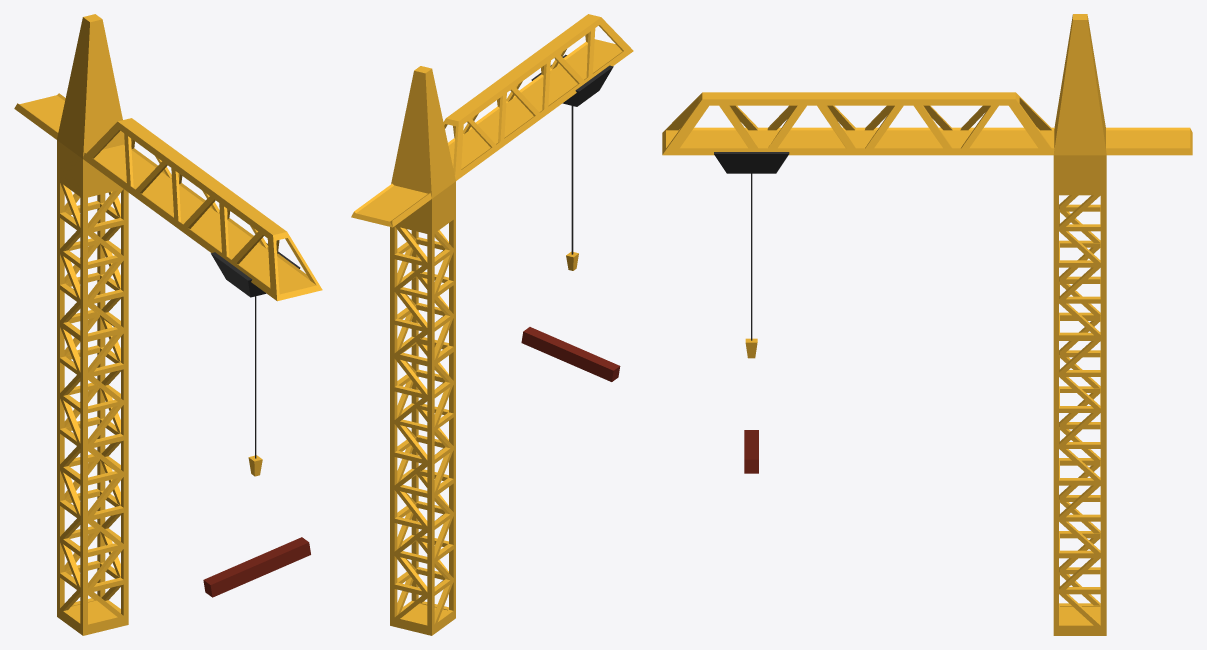
Rendered from Grue.fbx.
3 views of the same model, side by side, from view 1: azimuth 30°, elevation 25°; view 2: azimuth 150°, elevation 25°; view 3: azimuth 270°, elevation 25° (orthographic). The views are drawn at different scales.
Parts seen in each view (by area): view 1: BaseGrue, HautGrue, Cube; view 2: BaseGrue, HautGrue, Cube; view 3: BaseGrue, HautGrue, Cube.
Part boxes in pixels (x1=…): BaseGrue: x1=57, y1=14, x2=128, y2=635; HautGrue: x1=14, y1=93, x2=322, y2=301; Cube: x1=203, y1=243, x2=310, y2=597; BaseGrue: x1=390, y1=66, x2=455, y2=635; HautGrue: x1=351, y1=14, x2=633, y2=227; Cube: x1=521, y1=54, x2=620, y2=381; BaseGrue: x1=1053, y1=14, x2=1106, y2=635; HautGrue: x1=662, y1=92, x2=1192, y2=155; Cube: x1=714, y1=152, x2=789, y2=473.
Size of the model in its own units: 883 by 5056 by 4000.
